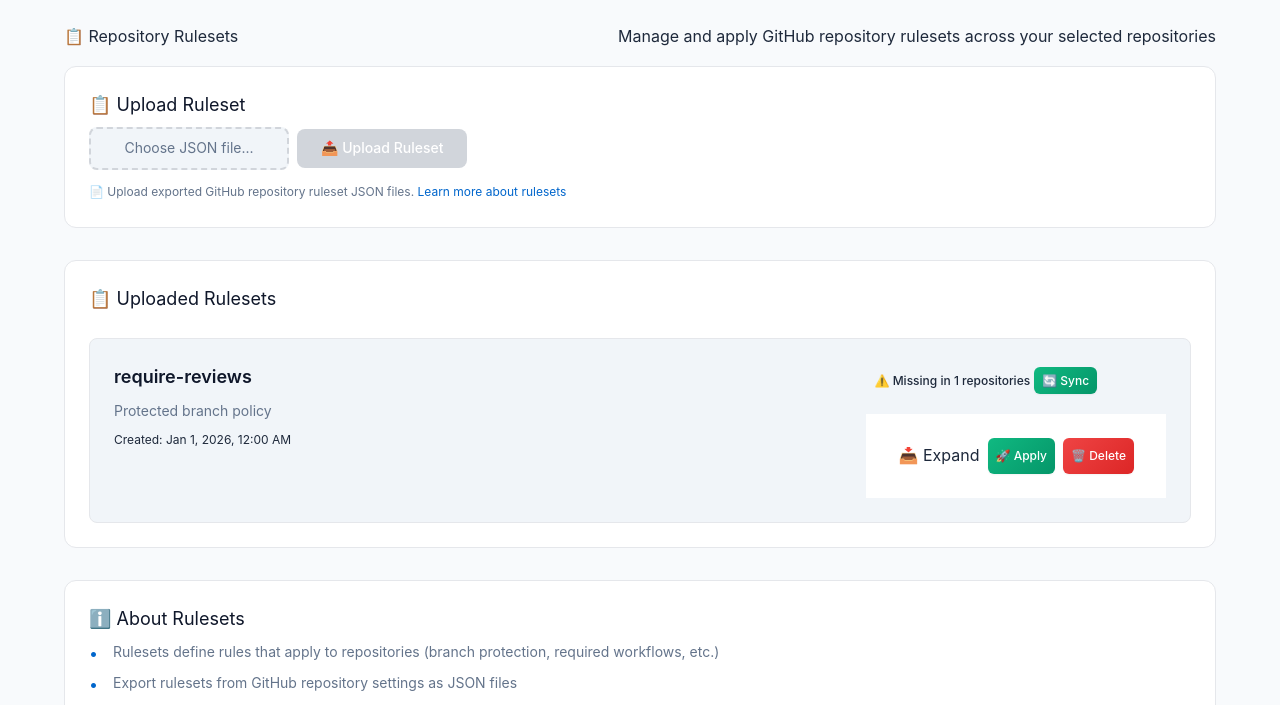
RulesetManager ruleset sync › refreshes the panel after Apply, which changes the same thing
Check: the heading "require-reviews" is shown, box [114,366,252,387]
Check: the text "⚠️ Missing in 1 repositories" is shown, box [874,371,1030,390]
Step 1. Click the button titled "Apply ruleset to selected repositories" → (1021, 456), box [988,438,1055,474]
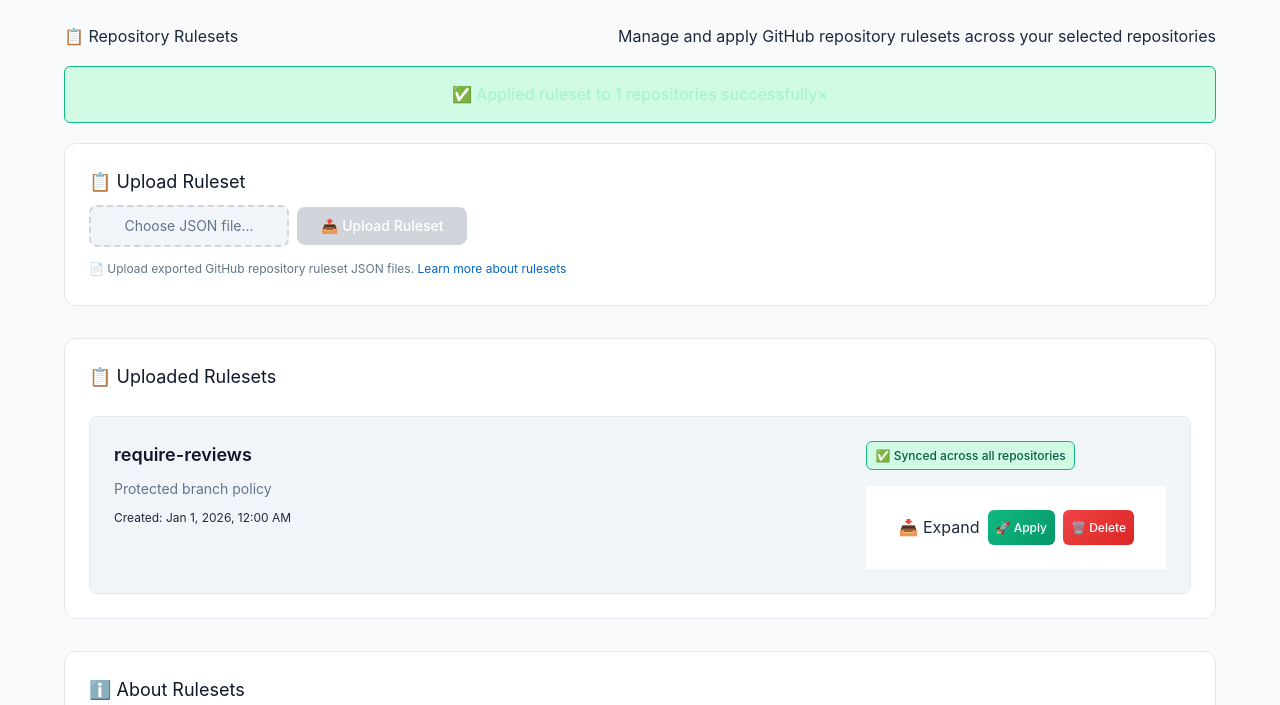
Check: the text "✅ Synced across all repositories" is shown, box [876,446,1066,465]
